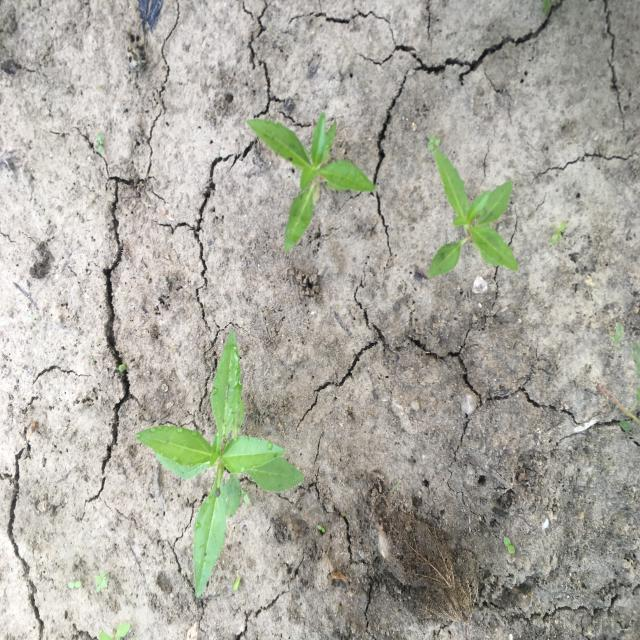Eclipta: (133, 328, 306, 600), (244, 114, 377, 256), (426, 147, 520, 280)
